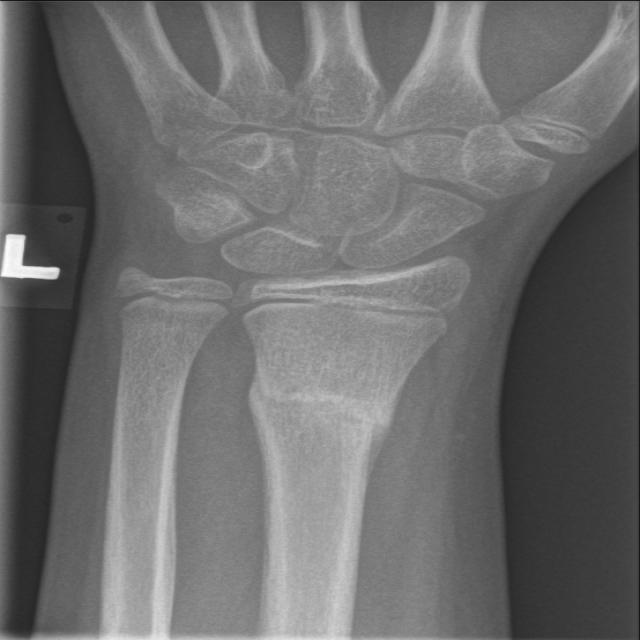radius fracture: (236, 343, 465, 546)
